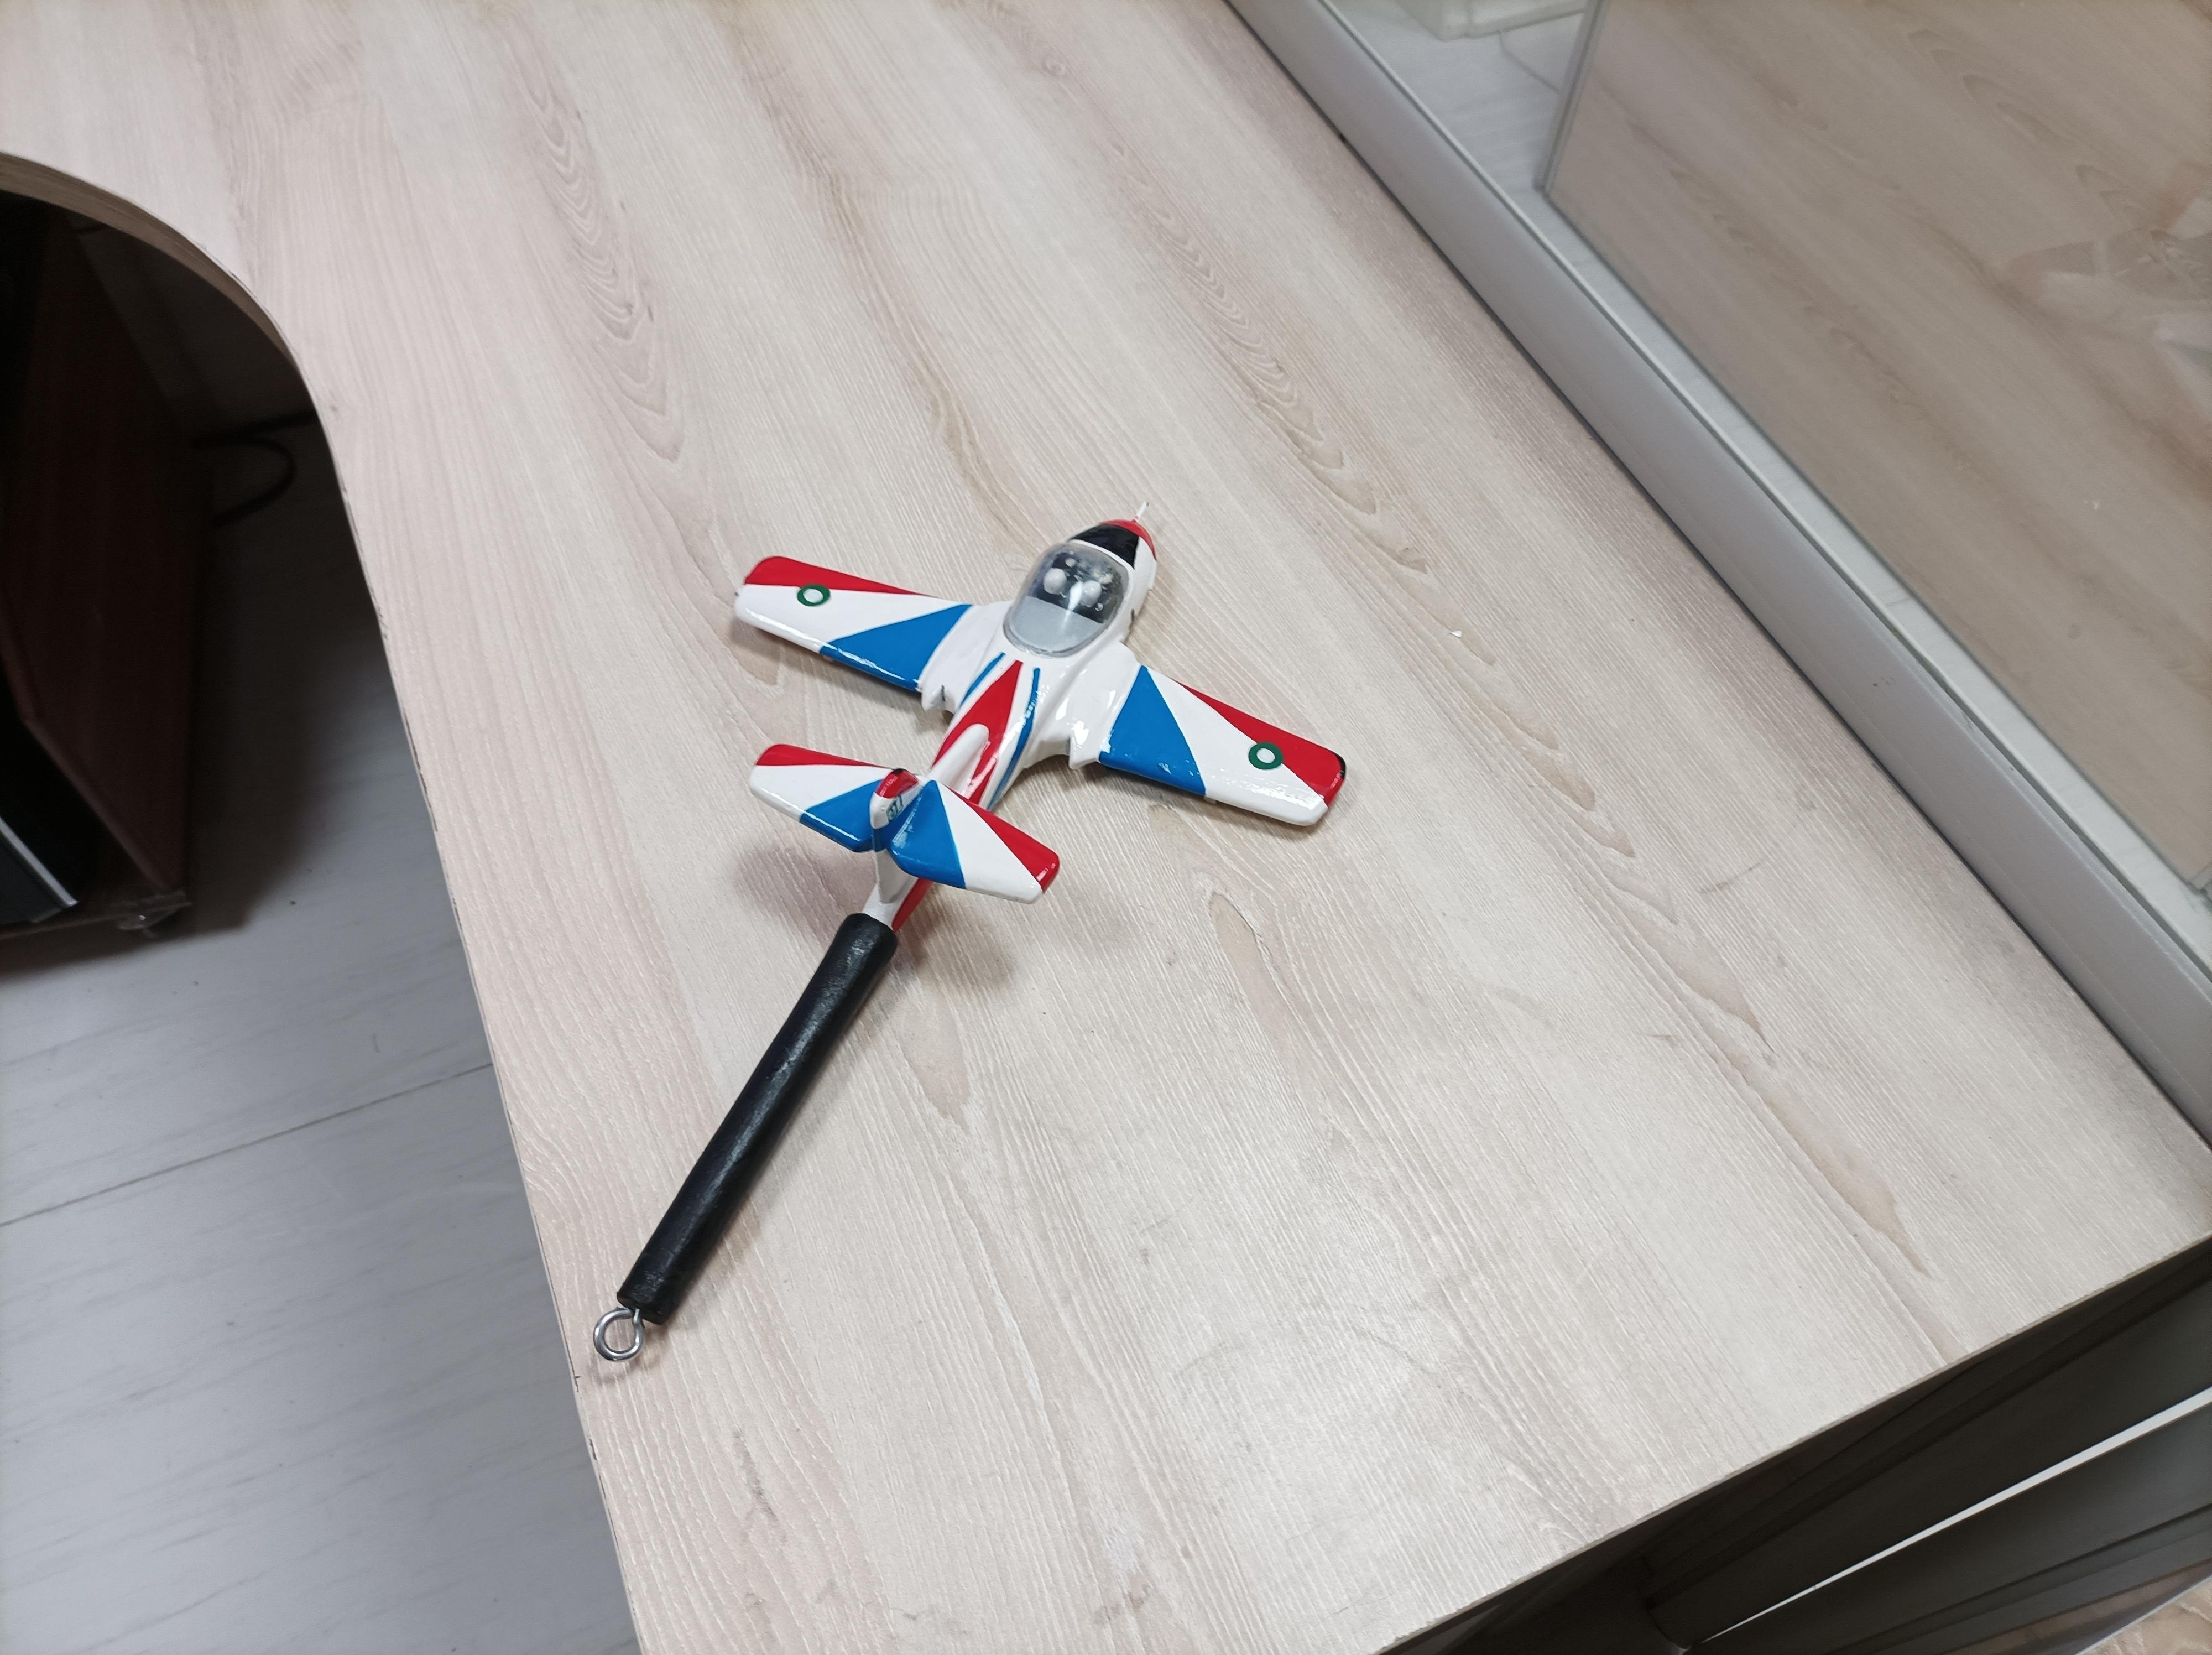Airplane: (725, 487, 1371, 956)
